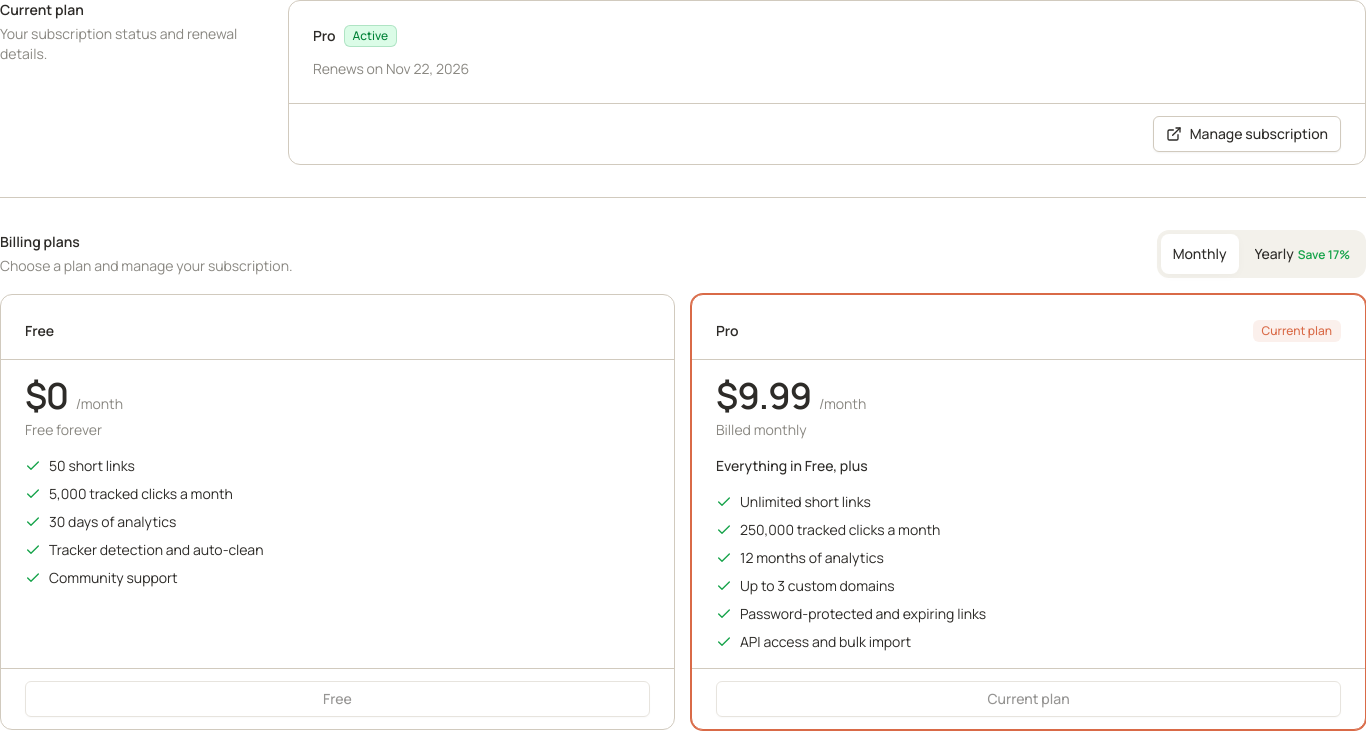
Scenario: BillingSettings portal return desktop › clears a dateless optimistic yearly switch after portal cancellation
Expected: the element named "Pro plan" is shown, [691,294,1365,730]
Click the button "Yearly Save 17%".
click(1302, 254)  # box [1243,234,1362,274]
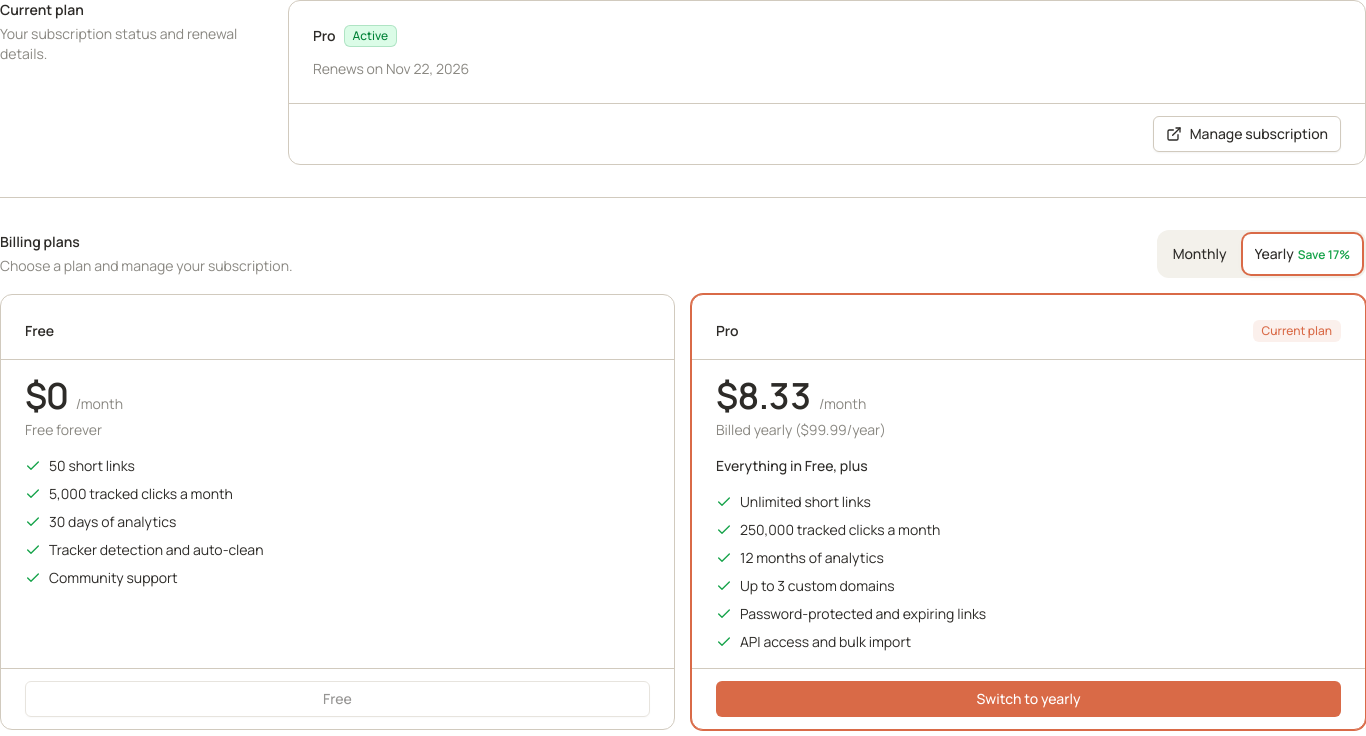
Click the button "Switch to yearly".
click(1028, 699)  # box [716,681,1341,717]
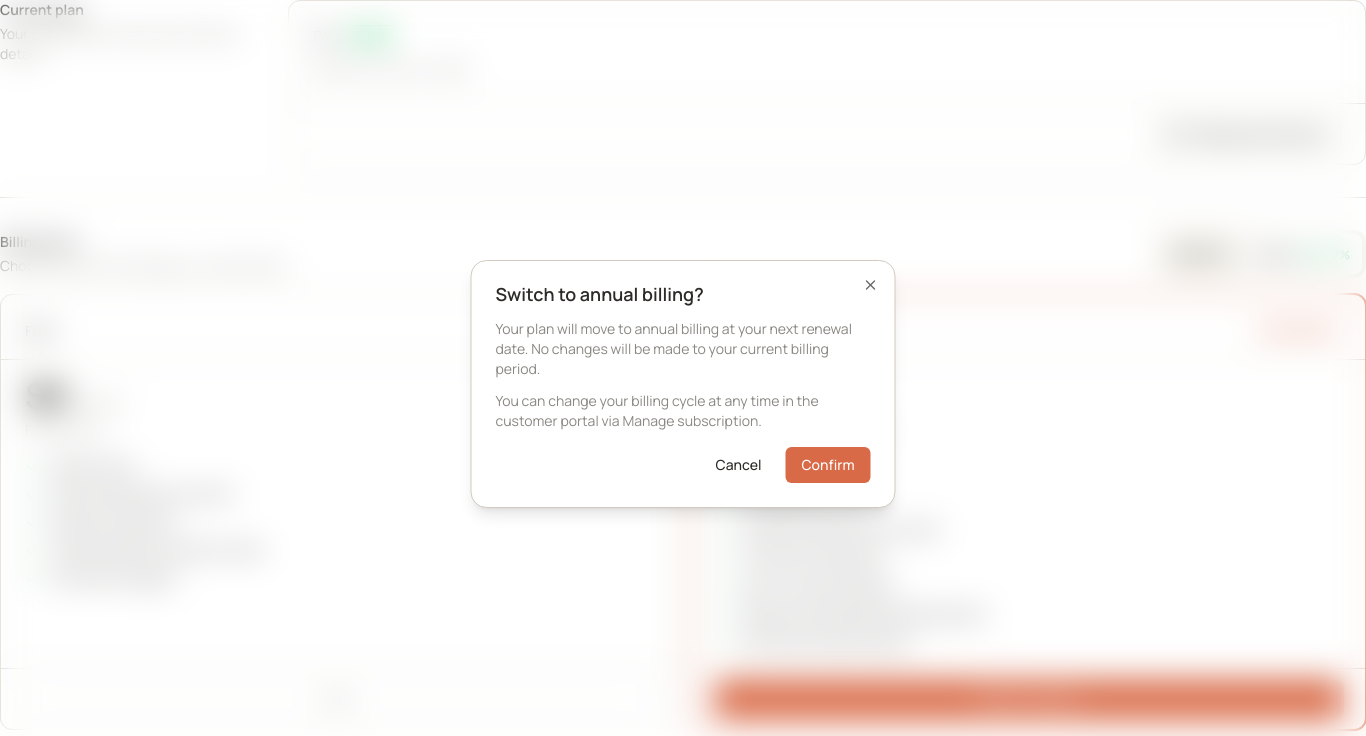
Click the button "Confirm".
click(828, 465)  # box [785,447,870,483]
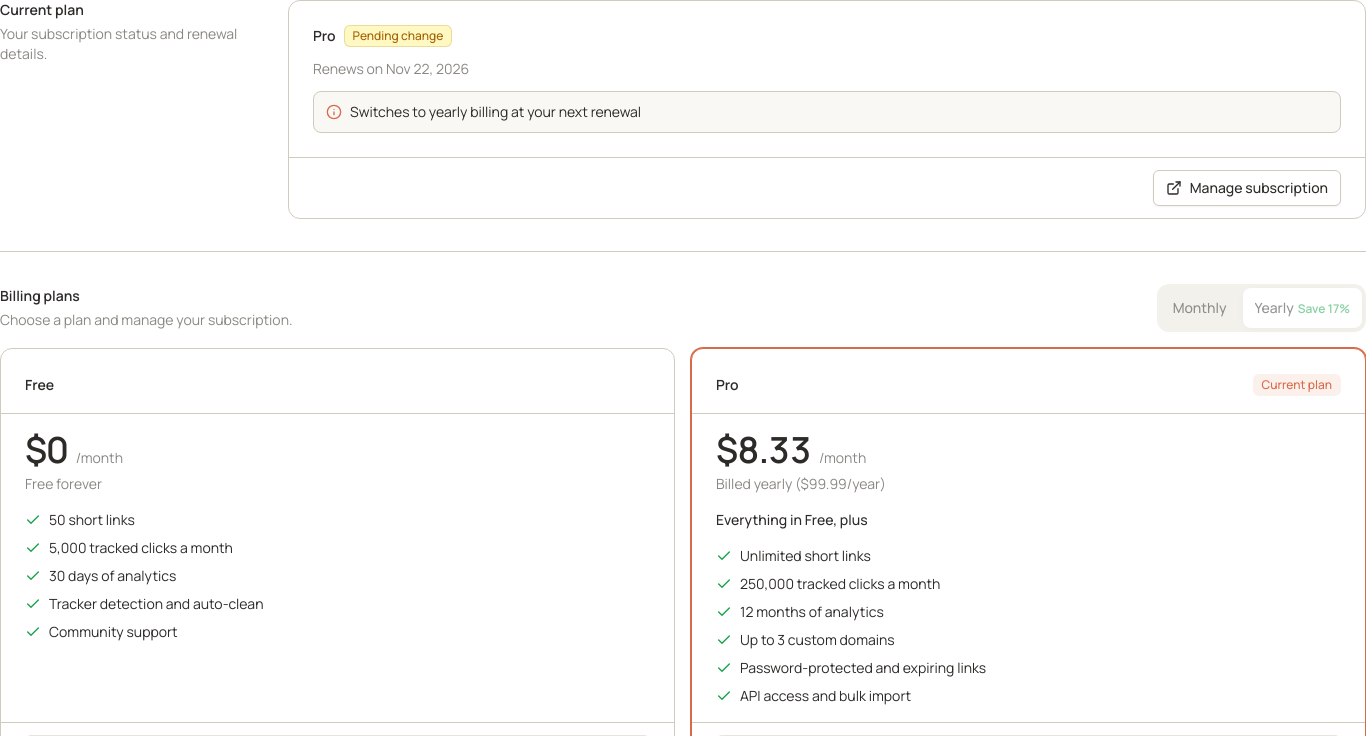
Click the button "Manage subscription".
click(1247, 188)  # box [1153,170,1341,206]
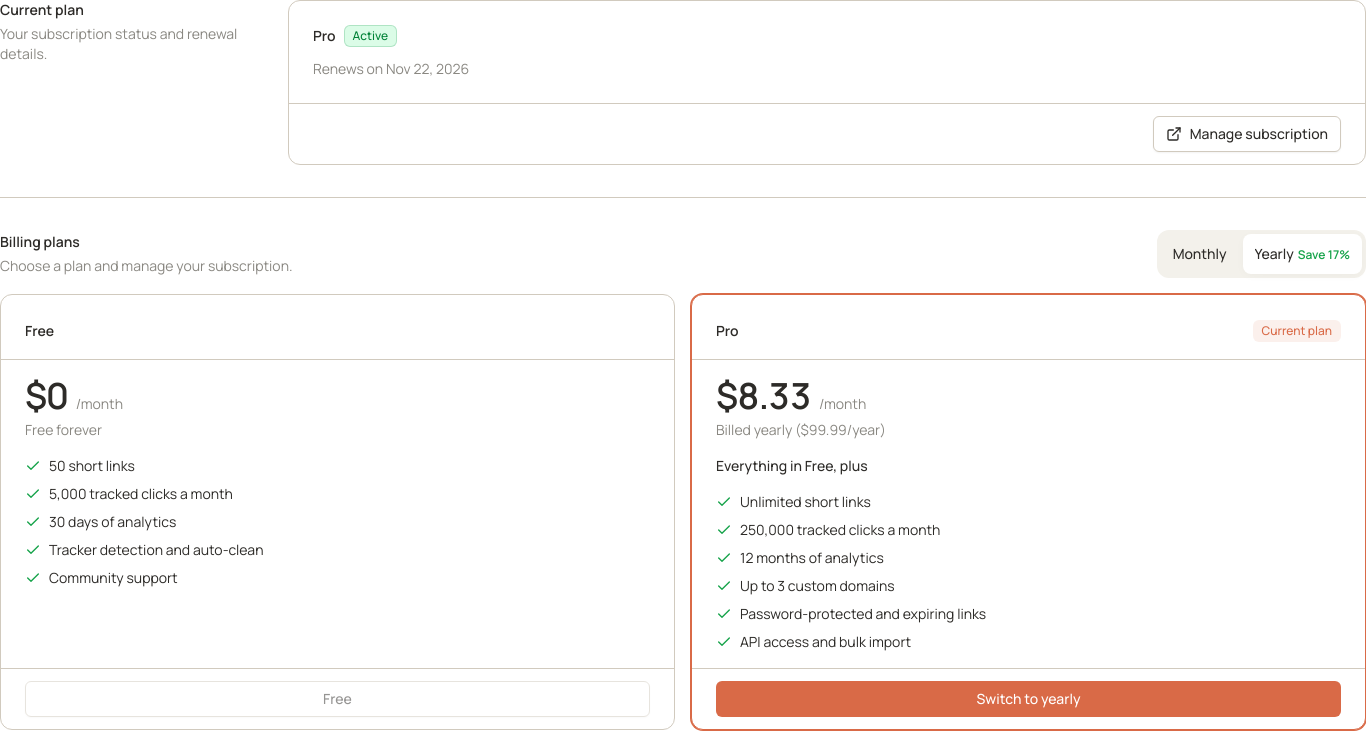
Result: the button "Switch to yearly" is enabled at [716,681,1341,717]
Result: the text "Switches to yearly billing at your next renewal" is gone
